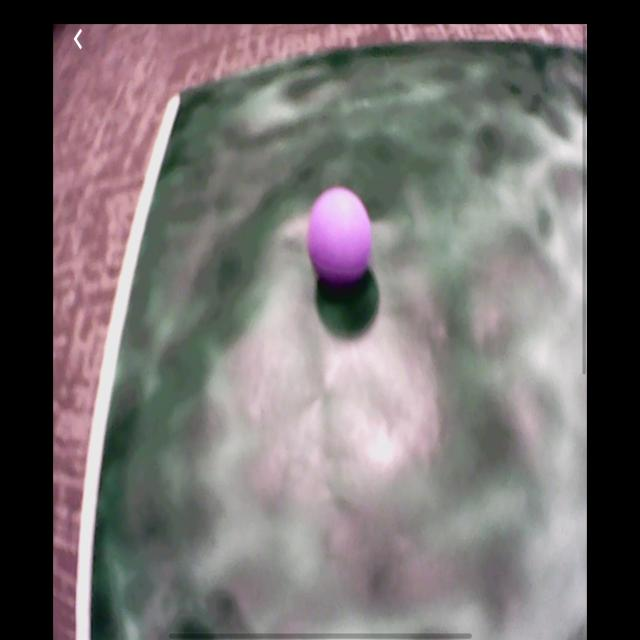ball: (307, 191, 374, 288)
